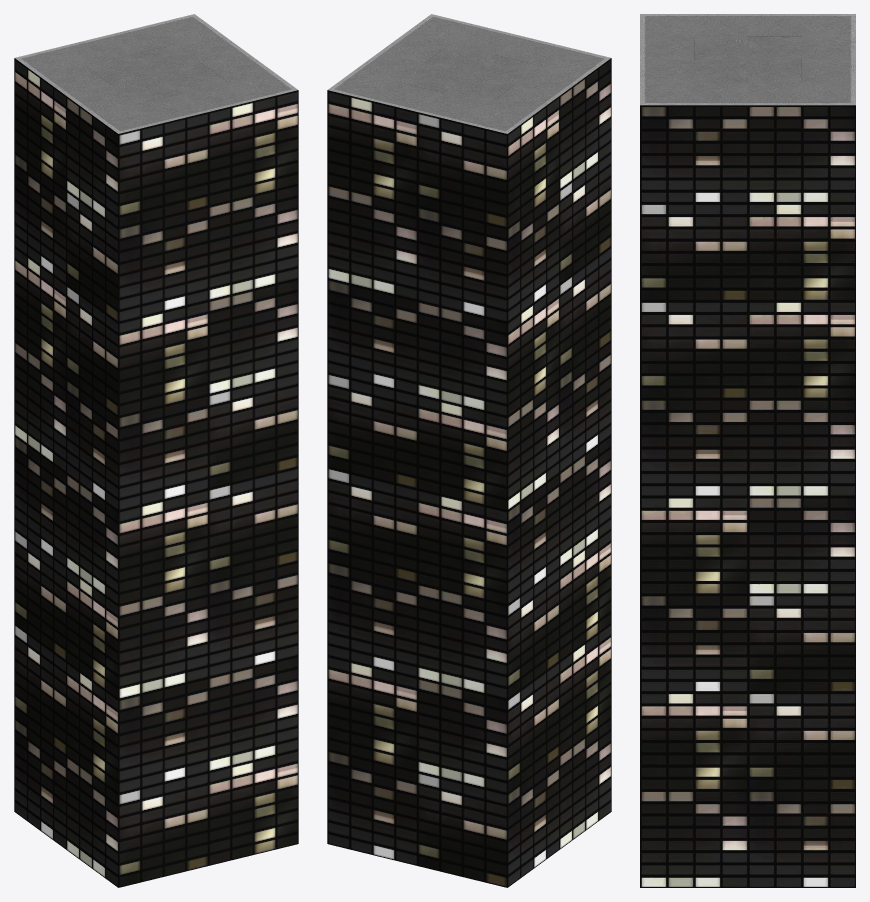
3 views of the same model, side by side, from view 1: azimuth 30°, elevation 25°; view 2: azimuth 150°, elevation 25°; view 3: azimuth 270°, elevation 25° (orthographic). The views are drawn at different scales.
Parts seen in each view (by area): view 1: Building_square; view 2: Building_square; view 3: Building_square.
Part boxes in pixels (box(x1,y1,x2,y2)): Building_square: box(14, 14, 298, 887); Building_square: box(327, 14, 611, 887); Building_square: box(640, 14, 855, 887).
Bounding box in the file's own units: 3000 × 12000 × 3000.
1 material, 1 textured.
